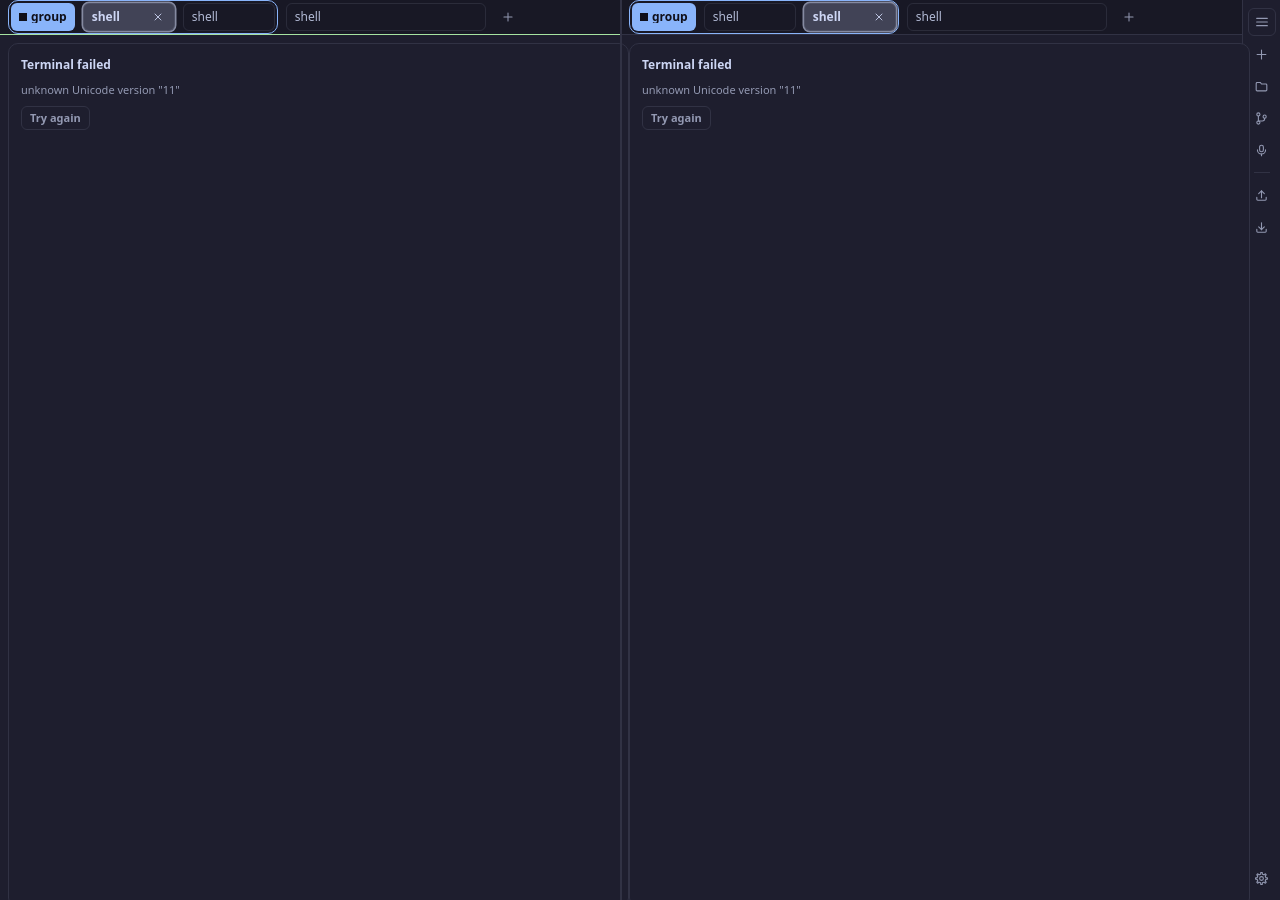
Test: editor groups › a colour group spanning two panes › collapses after moving EVERY pane showing a member to a tab outside it
Click the element with test id "group-chip-gaa111" showing "group" at (43, 17), box [11,3,75,31]
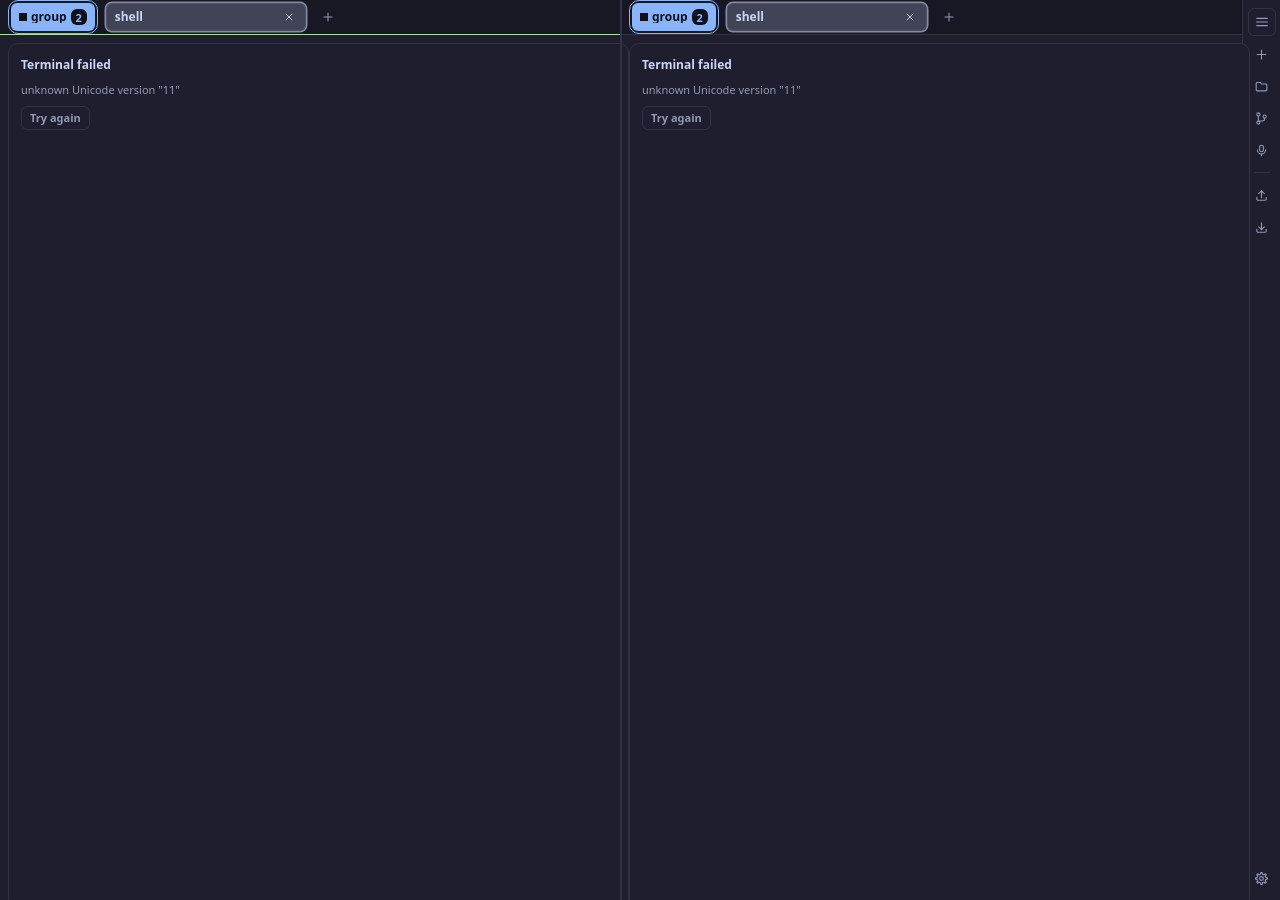
Now the 1st text with test id "group-count-gaa111" is shown, box [71,9,87,25]
Now the 2nd text with test id "group-count-gaa111" is shown, box [692,9,708,25]
